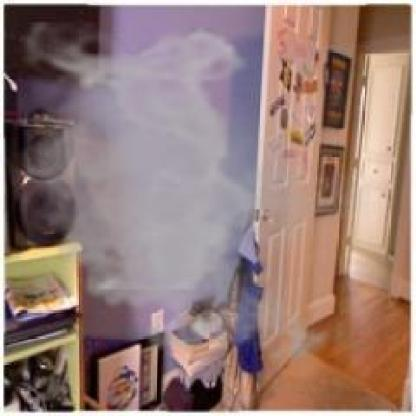Smoke: (3, 21, 371, 374)
